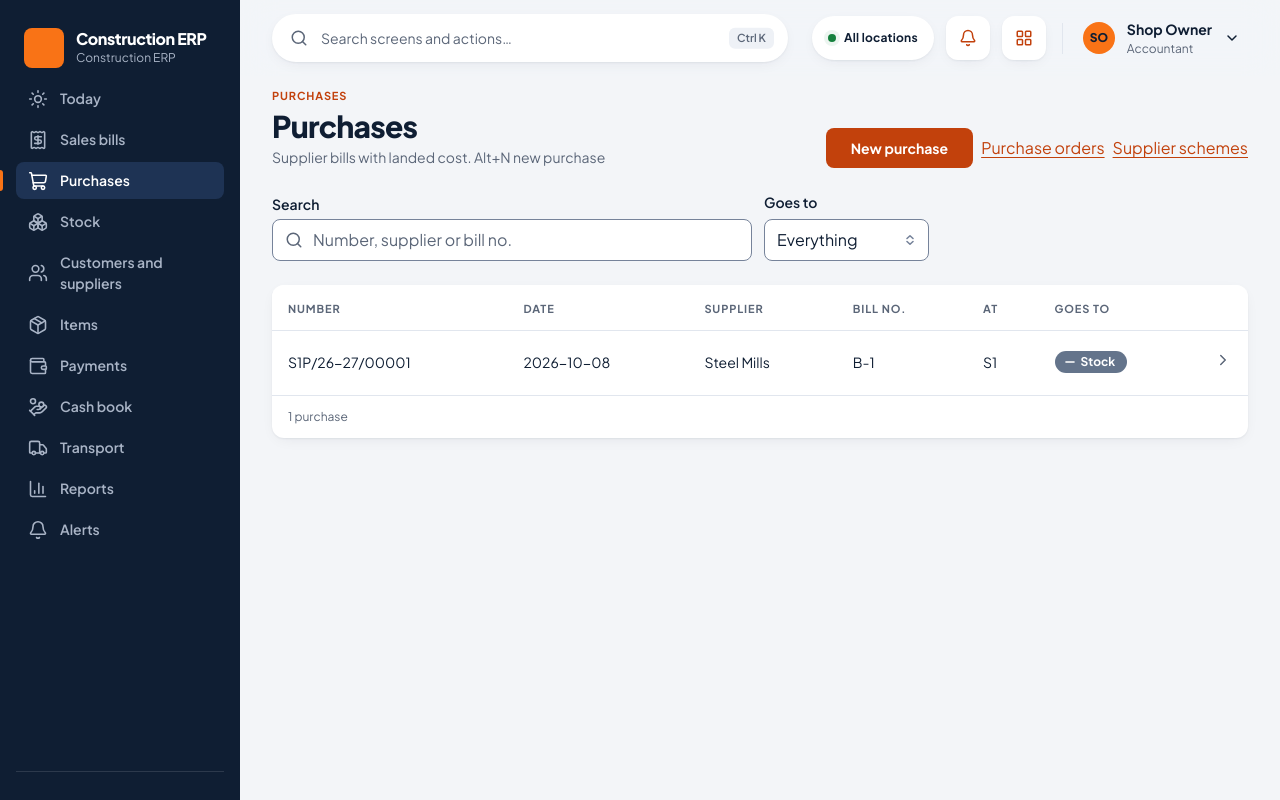
Test: Papers on a purchase › lets the accountant look but not add
What coordinates should you click on to do the following:
click the button "S1P/26-27/00001"
I would click on:
 (349, 362)
Its box is [288,352,411,373].
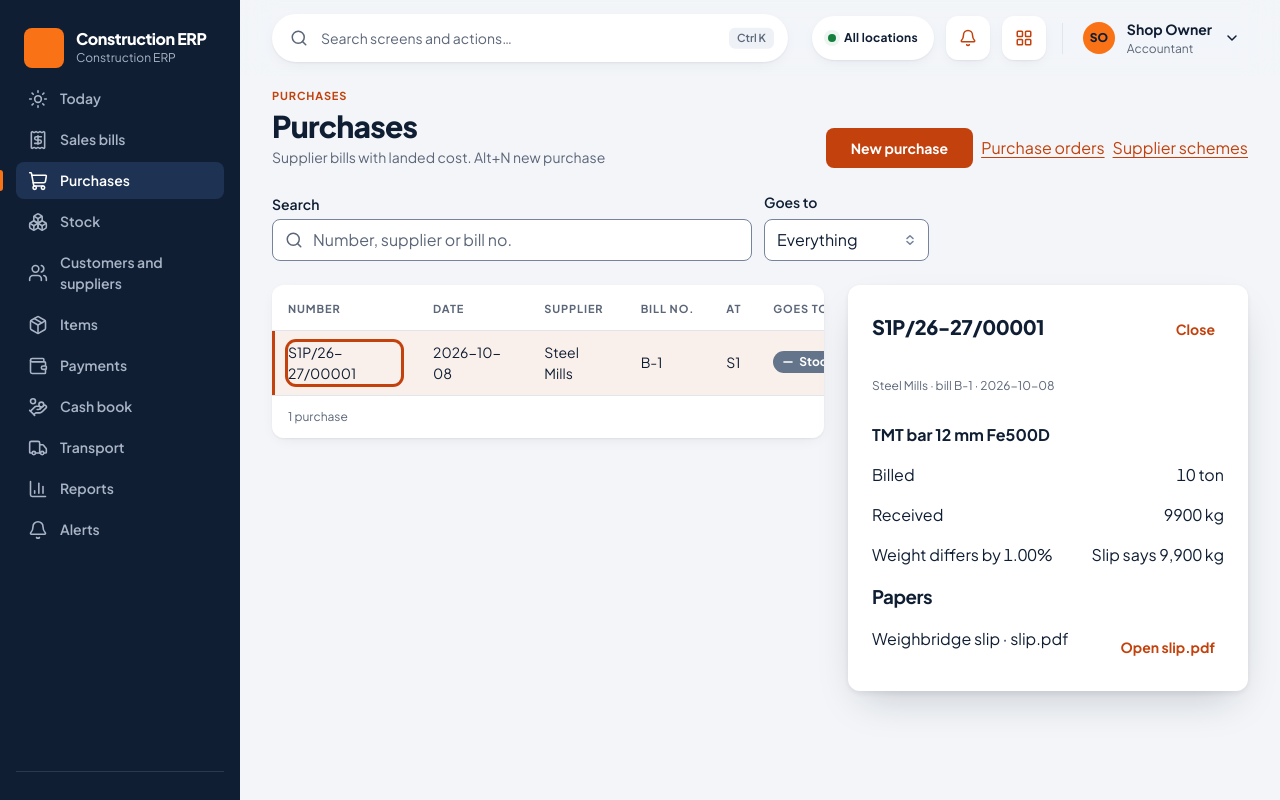
Check: the text "Weighbridge slip · slip.pdf" is shown, box [872,628,1068,649]
